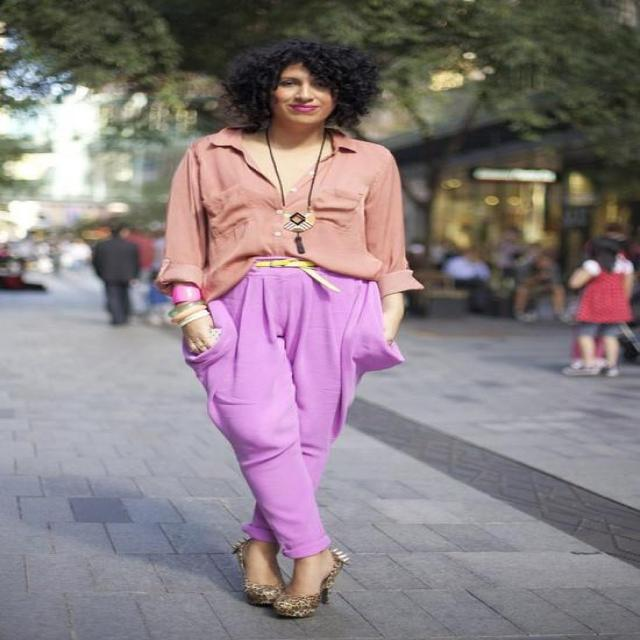pants: (184, 257, 402, 561)
shirt: (157, 124, 426, 298)
